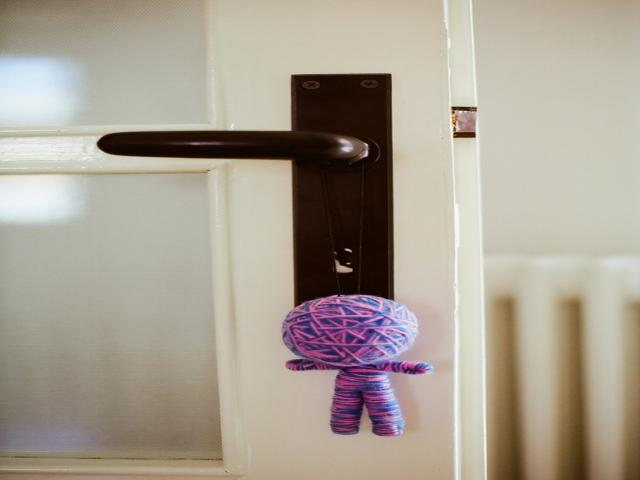Door-handle: (94, 72, 393, 308)
